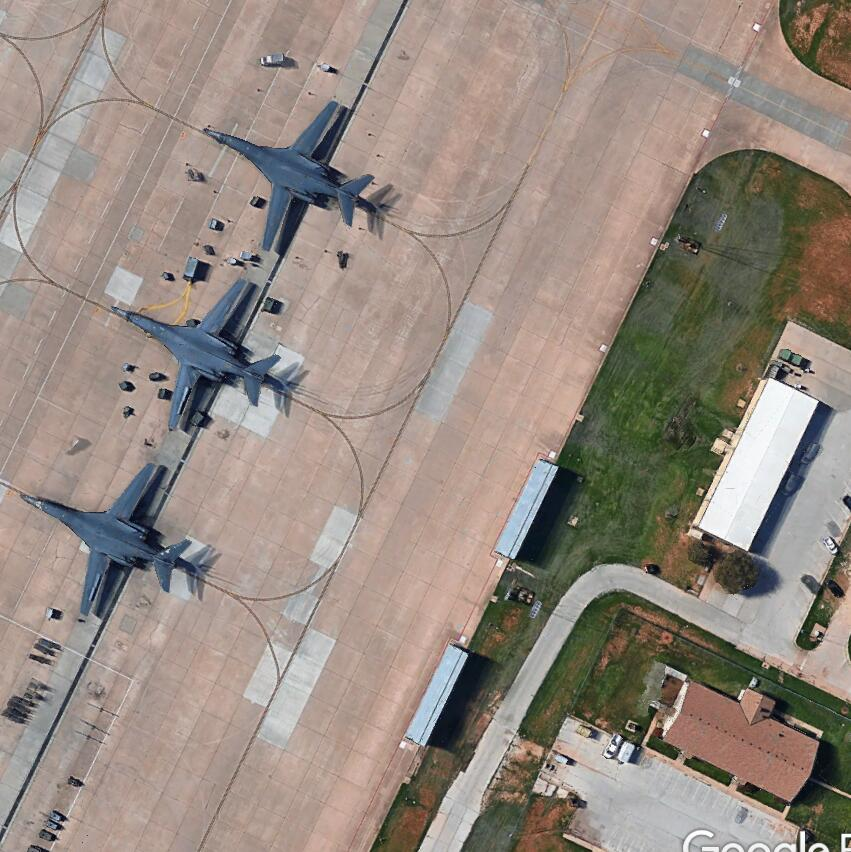A10: (18, 453, 232, 621), (108, 277, 317, 437), (202, 97, 402, 258)
